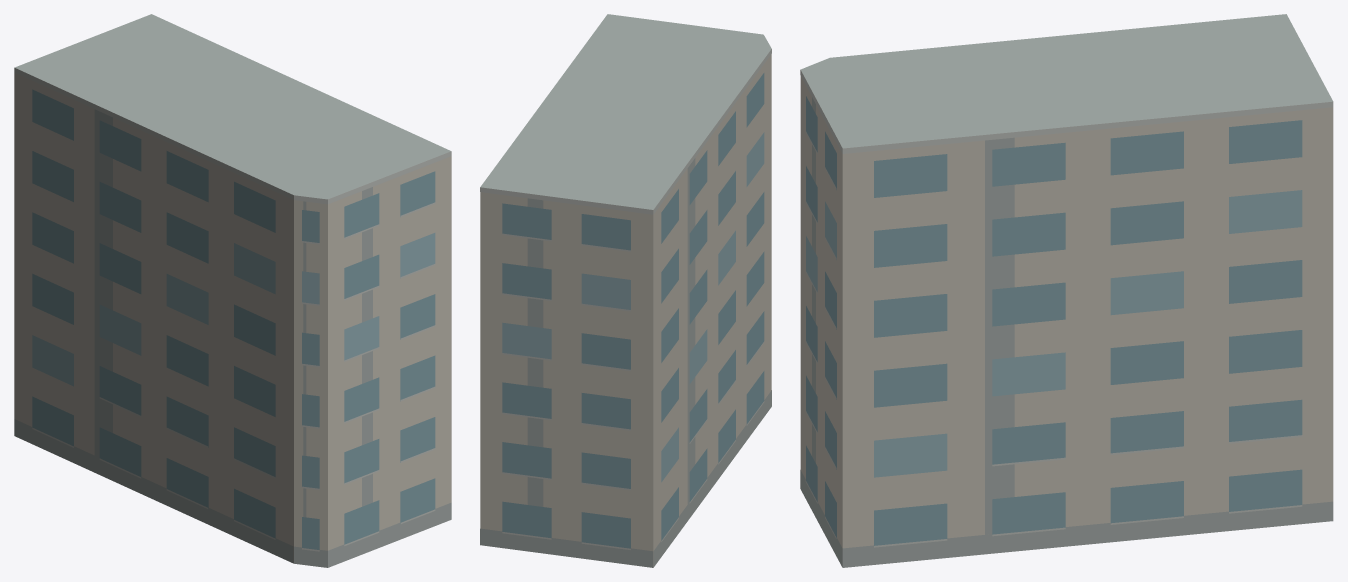
The model's file is survey-upis-33030445.glb.
The picture shows the model from 3 angles, left to right: view 1: azimuth 30°, elevation 25°; view 2: azimuth 150°, elevation 25°; view 3: azimuth 270°, elevation 25°; orthographic projection. The views are drawn at different scales.
Parts seen in each view (by area): view 1: survey-upis-33030445.tmp; view 2: survey-upis-33030445.tmp; view 3: survey-upis-33030445.tmp.
Boxes of the visible parts, bbox=[...] form: survey-upis-33030445.tmp: bbox=[14, 14, 451, 567]; survey-upis-33030445.tmp: bbox=[480, 14, 771, 567]; survey-upis-33030445.tmp: bbox=[800, 14, 1333, 567].
Size of the model in its own units: 12.6 by 18.3 by 21.09.
